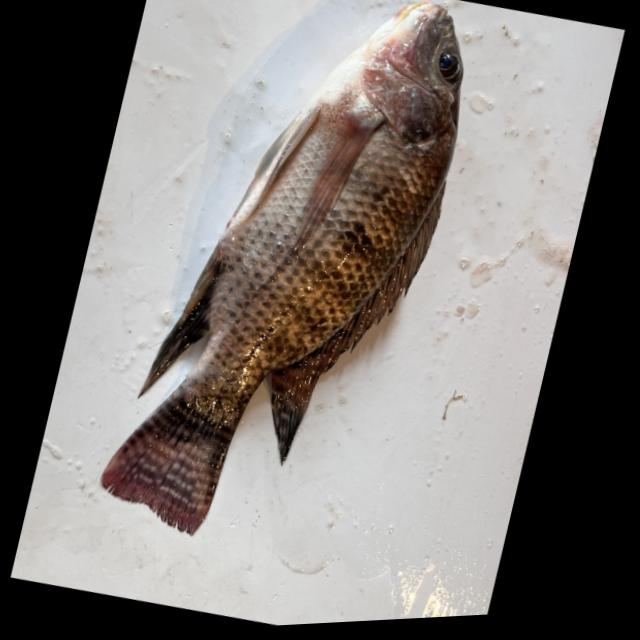Tilapia: (91, 0, 485, 579)
